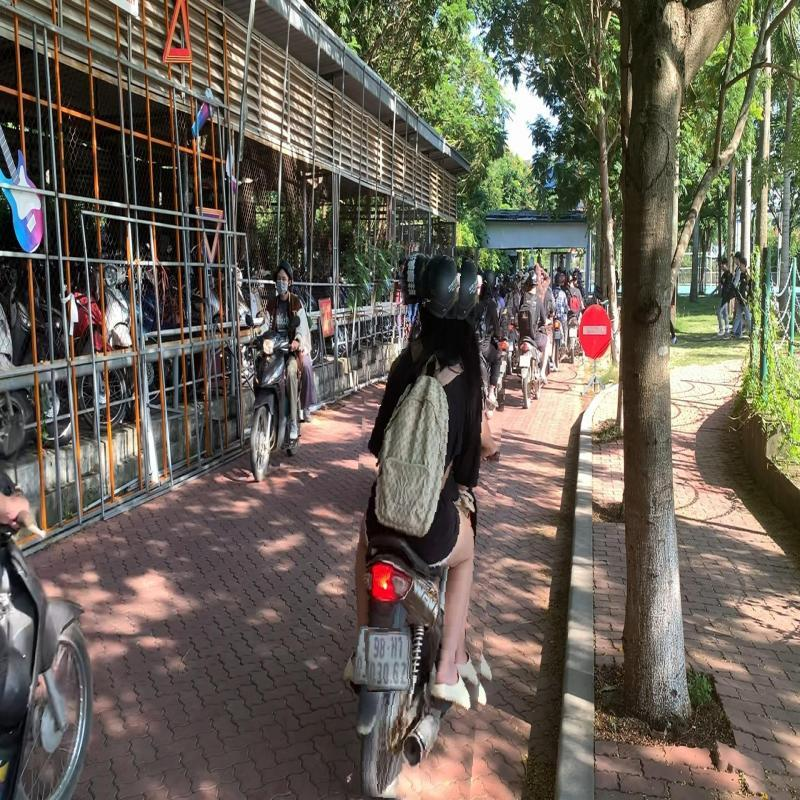helmet: (422, 255, 461, 318), (397, 251, 430, 305)
licenseplate: (365, 628, 413, 692)
motorcyclist: (342, 241, 506, 800)
